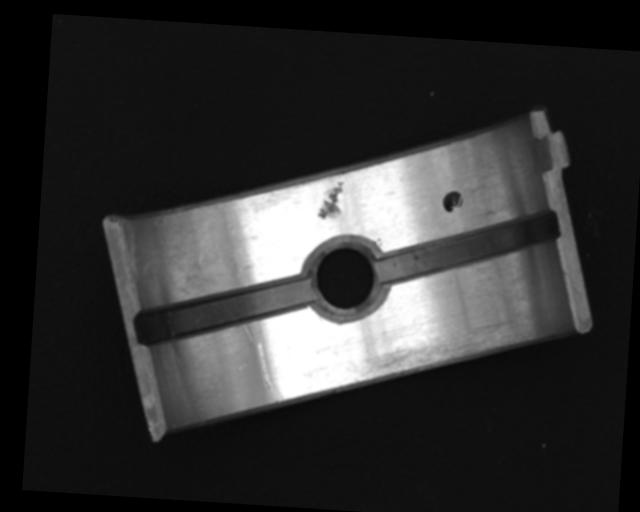blot: (441, 189, 463, 212)
bruise: (316, 179, 345, 221)
gap: (376, 200, 562, 296), (135, 266, 314, 355)
hole: (303, 241, 389, 321)
nick: (254, 343, 286, 404)
scratch: (354, 310, 522, 392)
